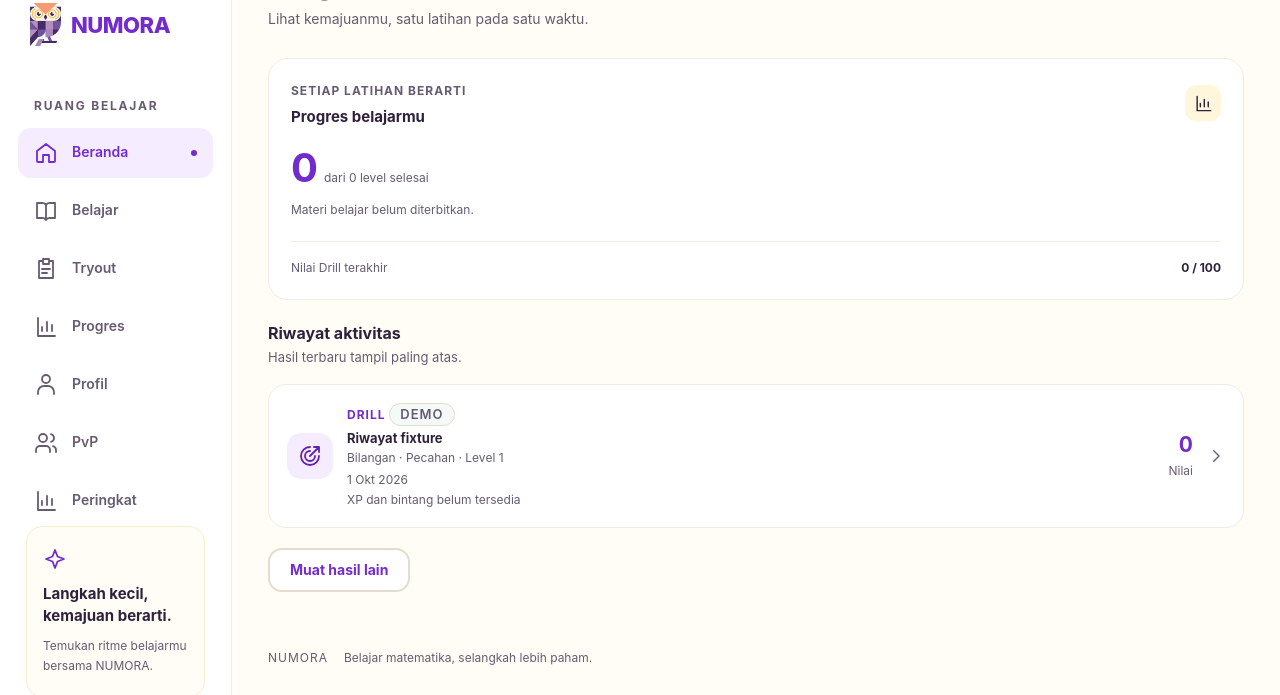
it: assessment history states › retains the first page during next-page failure and resumes with the same cursor
(page scrolled)
Expected: the heading "Riwayat fixture" is shown, [347,430,443,446]
What coordinates should you click on to do the following:
click the button "Muat hasil lain"
I would click on:
 (339, 570)
Its box is [268,548,410,592].
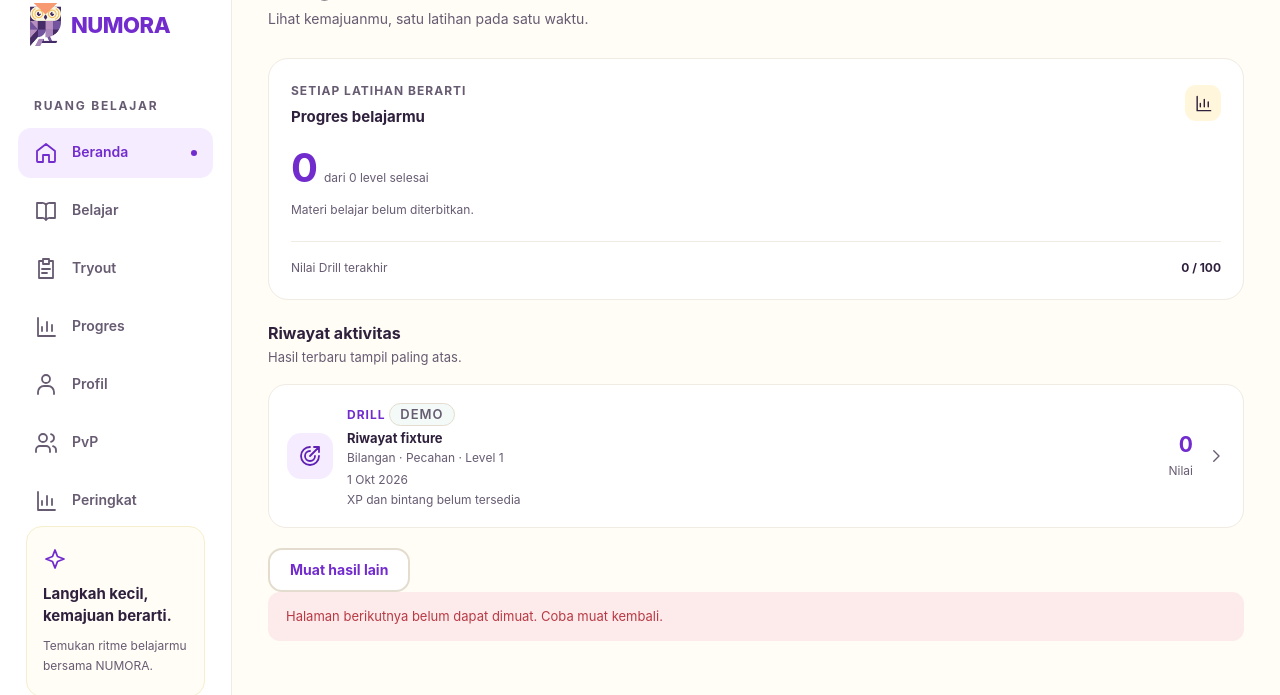
Expected: the number of headings "Riwayat fixture" is 1, [347,430,443,446]
Expected: the message "Halaman berikutnya belum dapat dimuat. Coba muat kembali." is shown, [268,592,1244,641]
What coordinates should you click on to do the following:
click the button "Muat hasil lain"
I would click on:
 (339, 570)
Its box is [268,548,410,592].
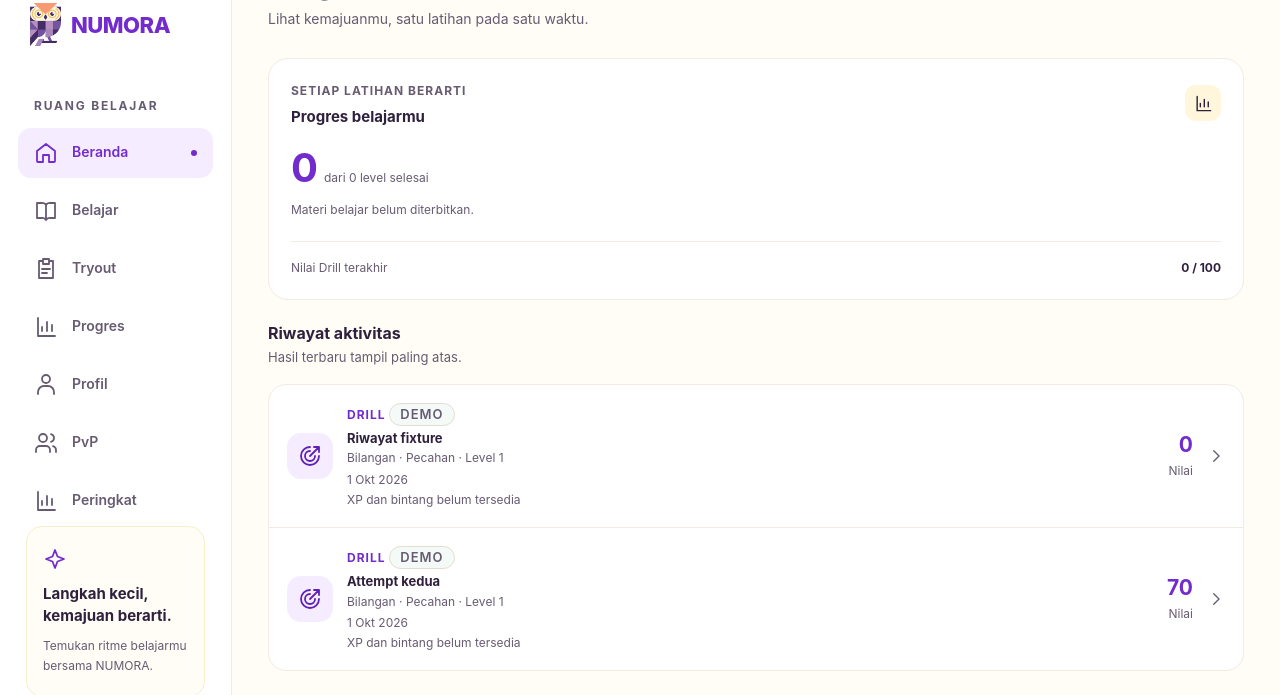
Expected: the number of headings "Riwayat fixture" is 1, [347,430,443,446]
Expected: the heading "Attempt kedua" is shown, [347,573,440,589]
Expected: the button "Muat hasil lain" is gone
